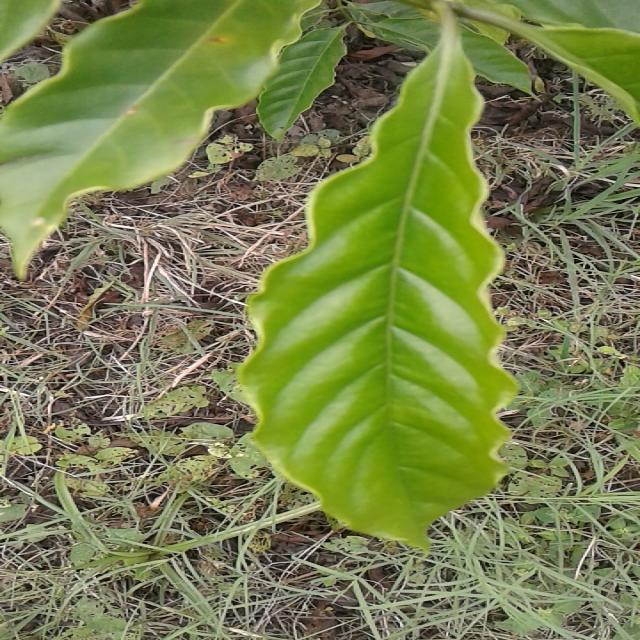Sanas: (235, 0, 519, 554)
